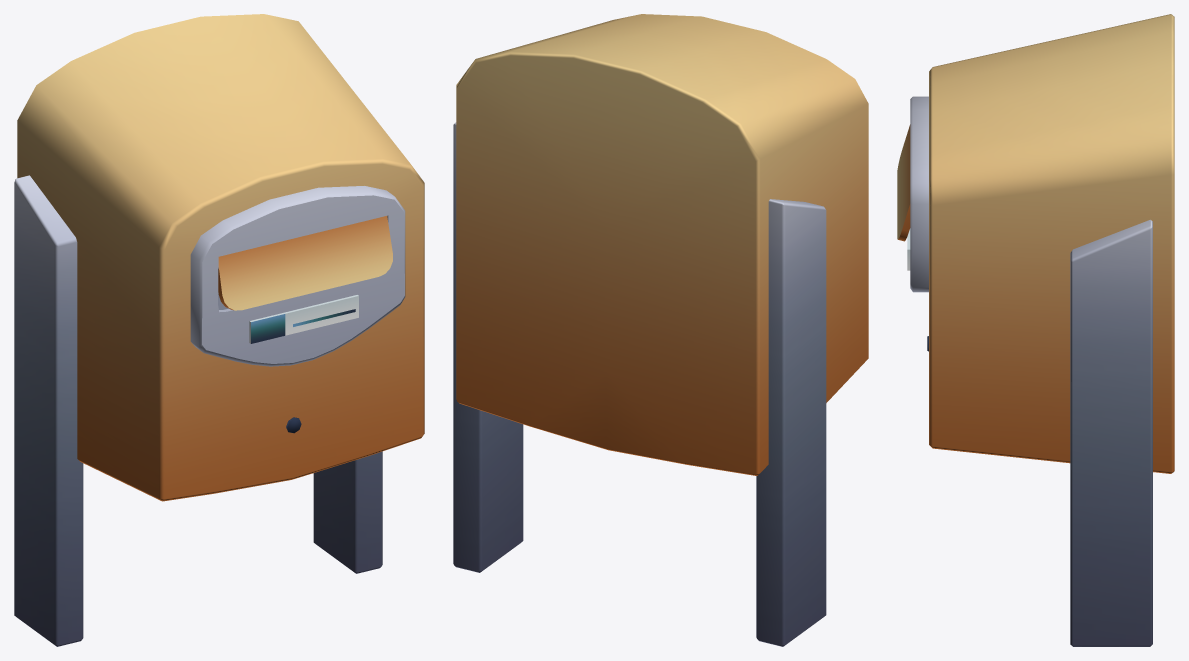
The model's file is SM_Mailbox.fbx.
The picture shows the model from 3 angles, left to right: view 1: azimuth 30°, elevation 25°; view 2: azimuth 150°, elevation 25°; view 3: azimuth 270°, elevation 25°; orthographic projection. The views are drawn at different scales.
Parts seen in each view (by area): view 1: SM_Mailbox.001; view 2: SM_Mailbox.001; view 3: SM_Mailbox.001.
Part boxes in pixels (<box>): SM_Mailbox.001: <box>14,14,424,646</box>; SM_Mailbox.001: <box>453,14,868,646</box>; SM_Mailbox.001: <box>897,14,1174,646</box>.
Size of the model in its own units: 99.08 by 157 by 75.64.
